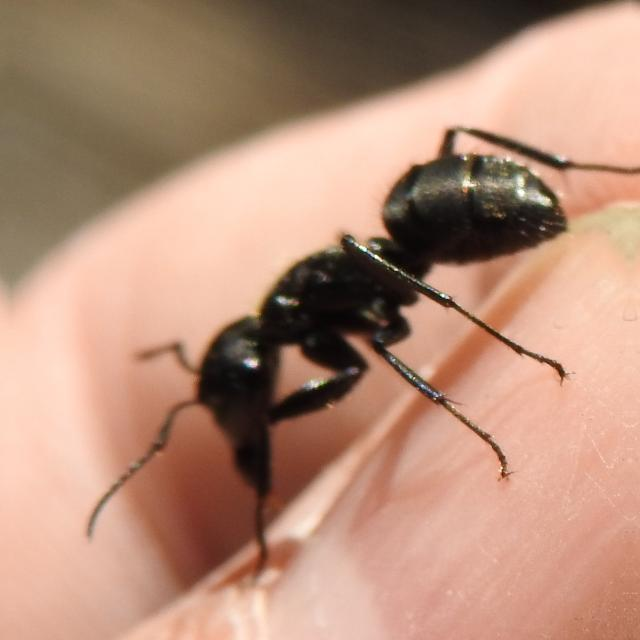Camponotus: (61, 108, 629, 578)
